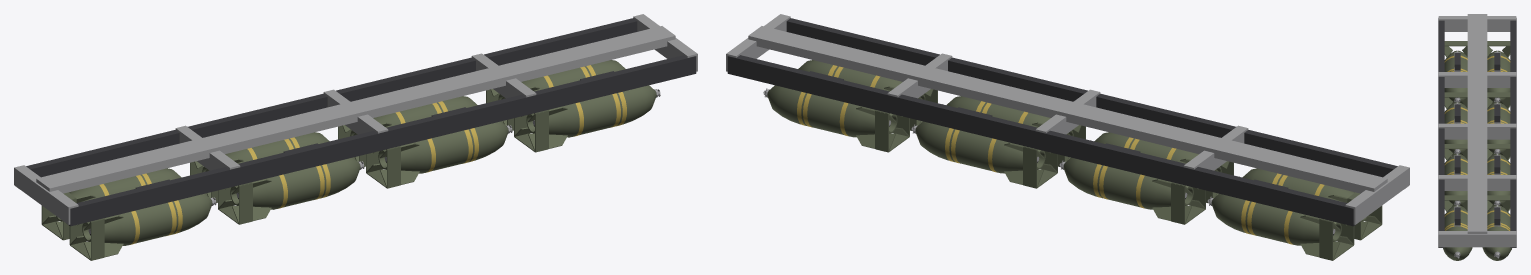
File: bombs_evo_bay.glb
3 renders of one model, left to right at view 1: azimuth 30°, elevation 25°; view 2: azimuth 150°, elevation 25°; view 3: azimuth 270°, elevation 25°, orthographic. The views are drawn at different scales.
Parts seen in each view (by area): view 1: bombs_evo_bay; view 2: bombs_evo_bay; view 3: bombs_evo_bay.
Boxes of the visible parts, left/top/right/bottom form: bombs_evo_bay: left=14, top=14, right=697, bottom=260; bombs_evo_bay: left=726, top=14, right=1409, bottom=260; bombs_evo_bay: left=1438, top=14, right=1516, bottom=260.
Size of the model in its own units: 1.87 by 0.1882 by 0.282.
